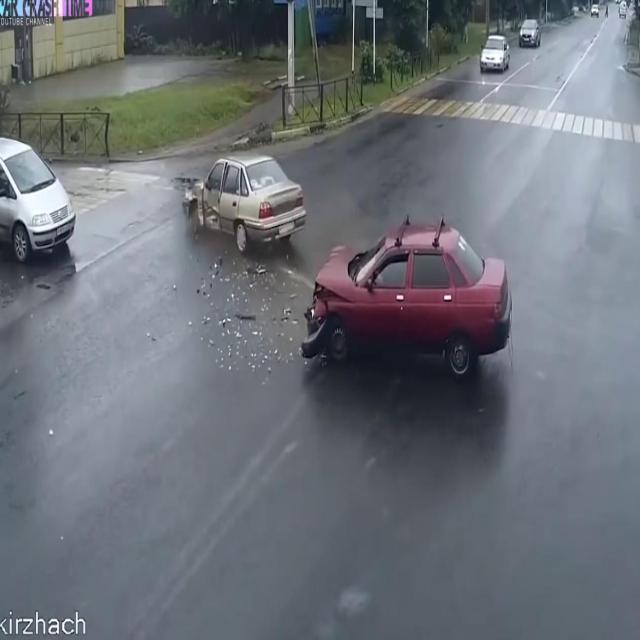accident: (175, 141, 525, 411)
